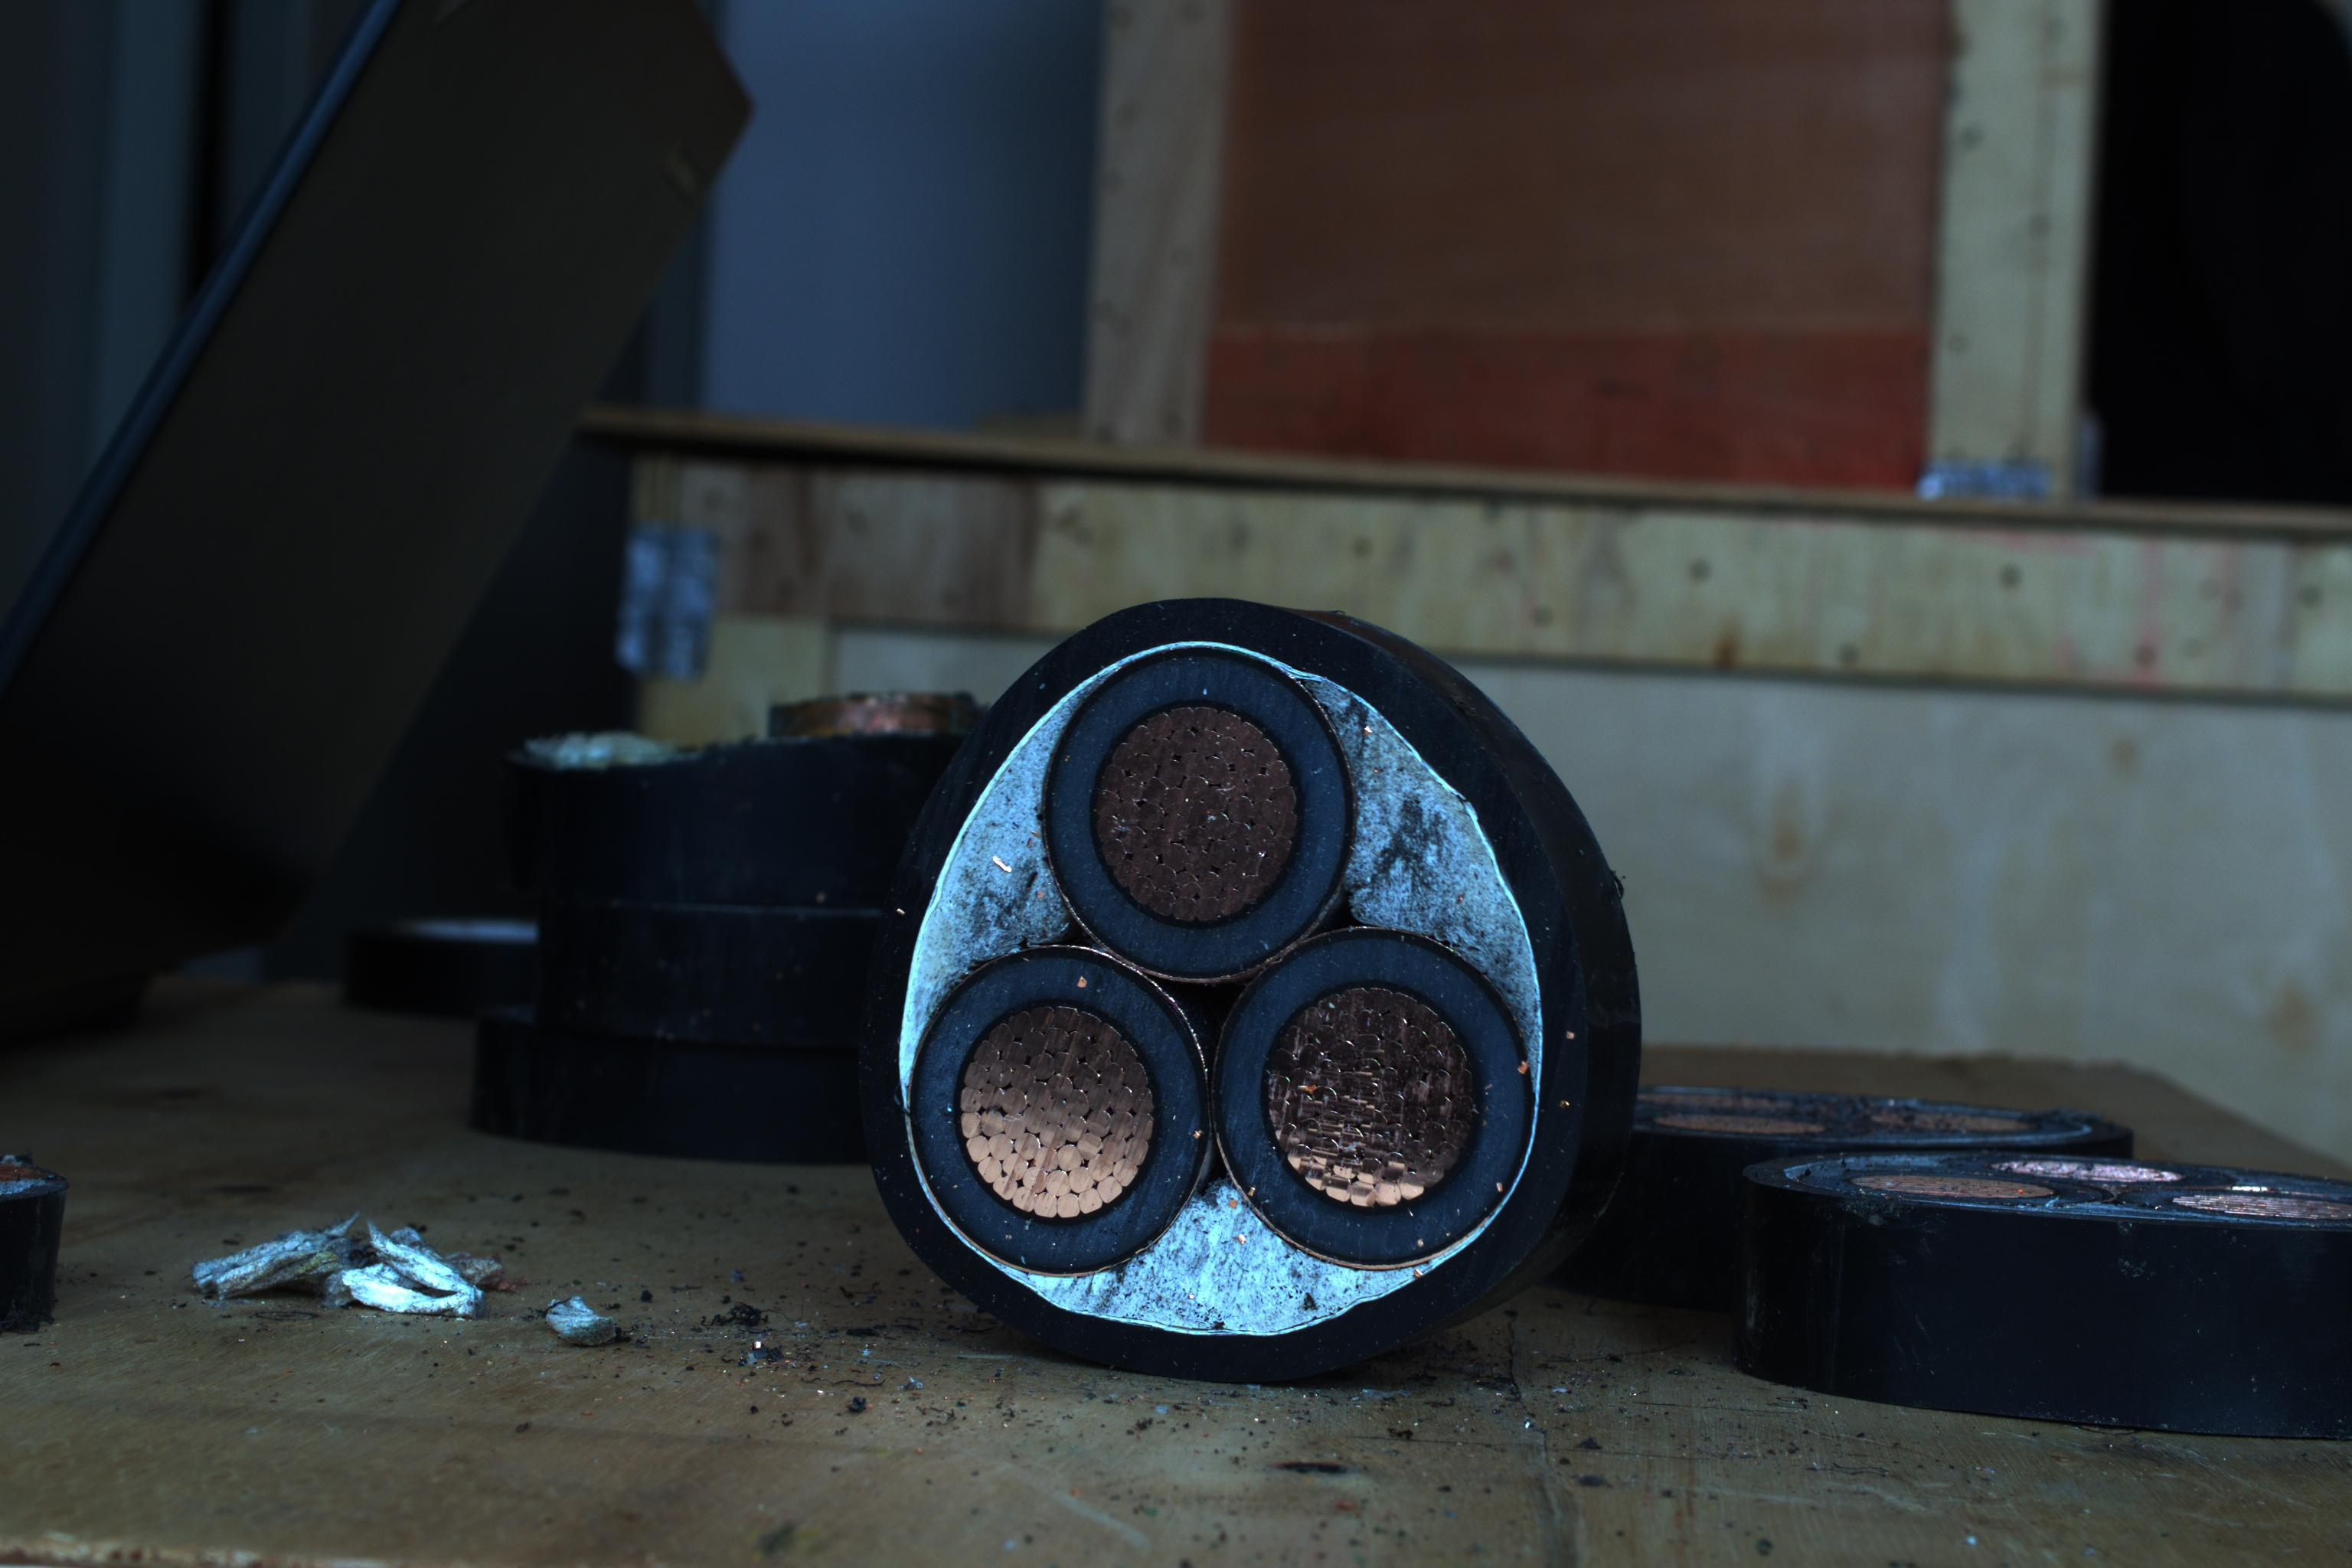ZA_YJV_8.7_10kV_3x400: (873, 570, 1605, 1393)
